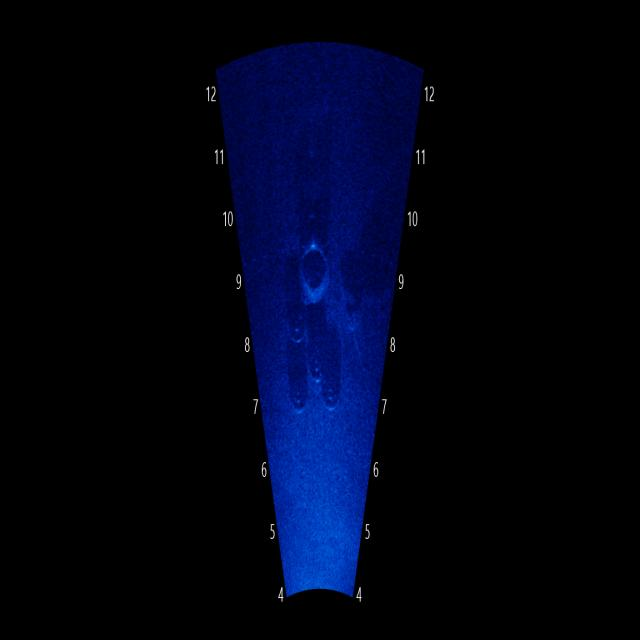circle: (288, 225, 334, 311), (283, 307, 323, 362), (287, 365, 308, 420), (308, 334, 326, 397), (320, 368, 342, 414)
